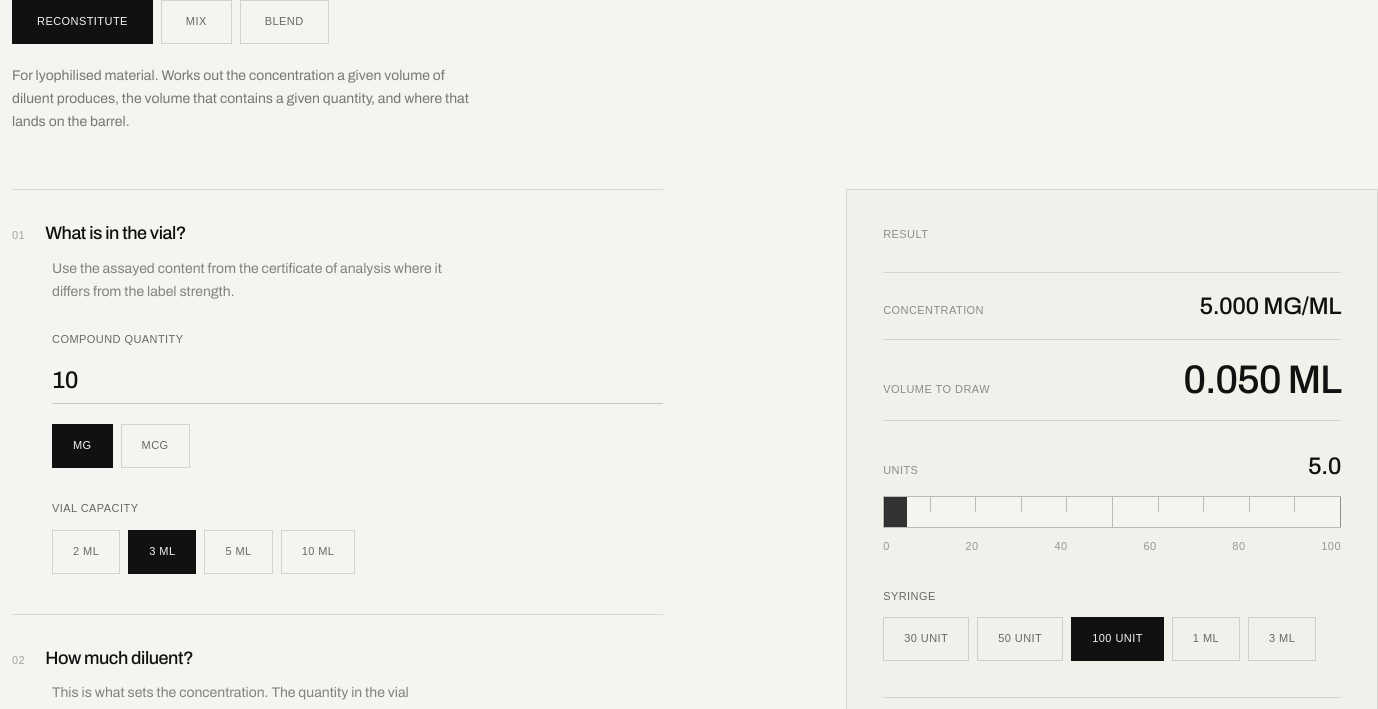
it: reconstitute › warns when the draw overruns the selected barrel
The image size is (1378, 709).
Click the radio button labelled "30 unit" at (926, 639), box [883,617,969,661]
(page scrolled)
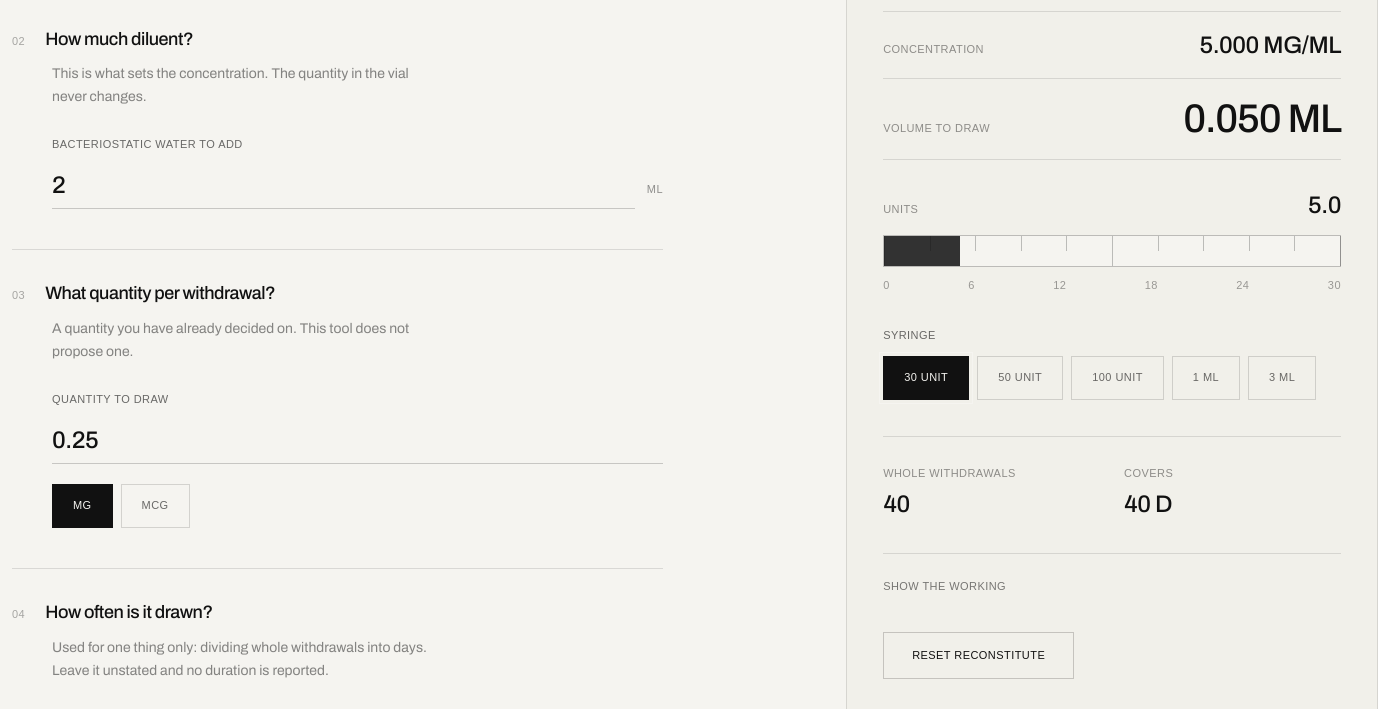
Replace the text in the number field labelled "Quantity to draw" with "5" at (358, 440), box [52,417,663,464]
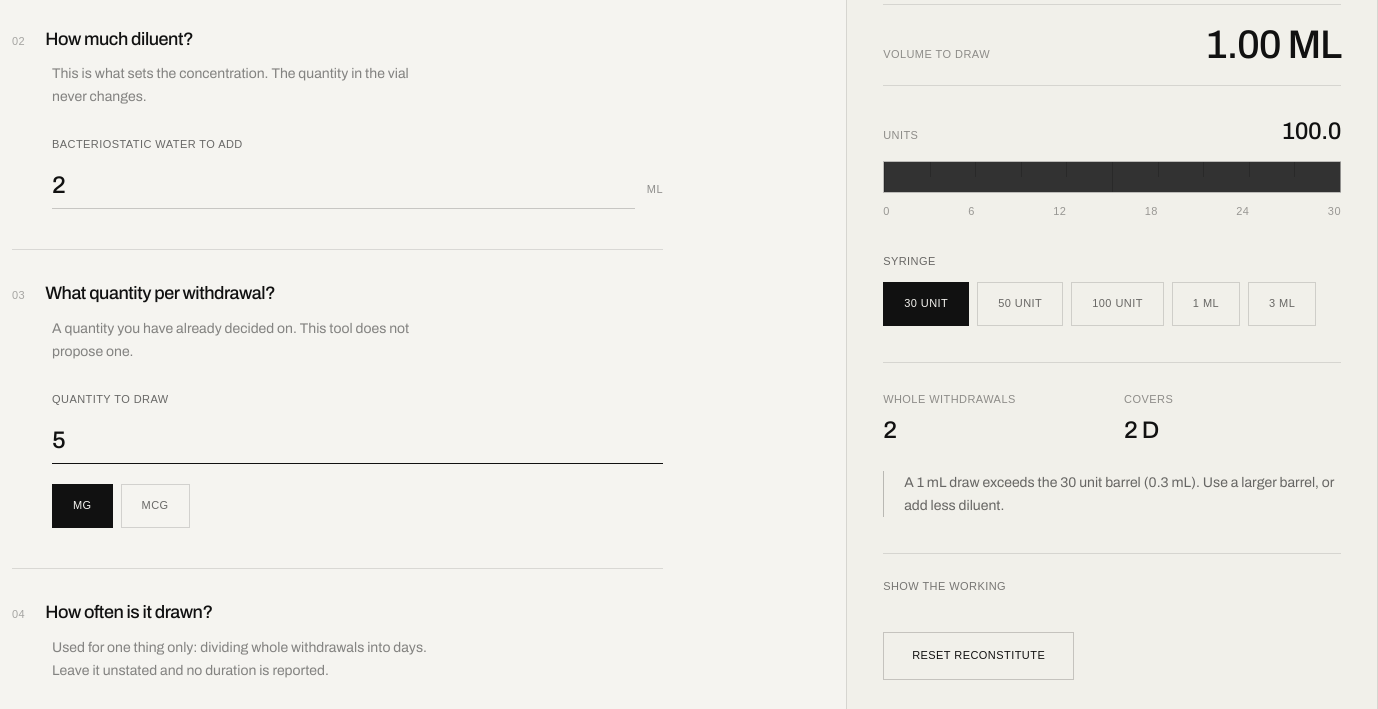
Now the list item "exceeds the 30 unit barrel" is shown, box [904,475,1334,513]
